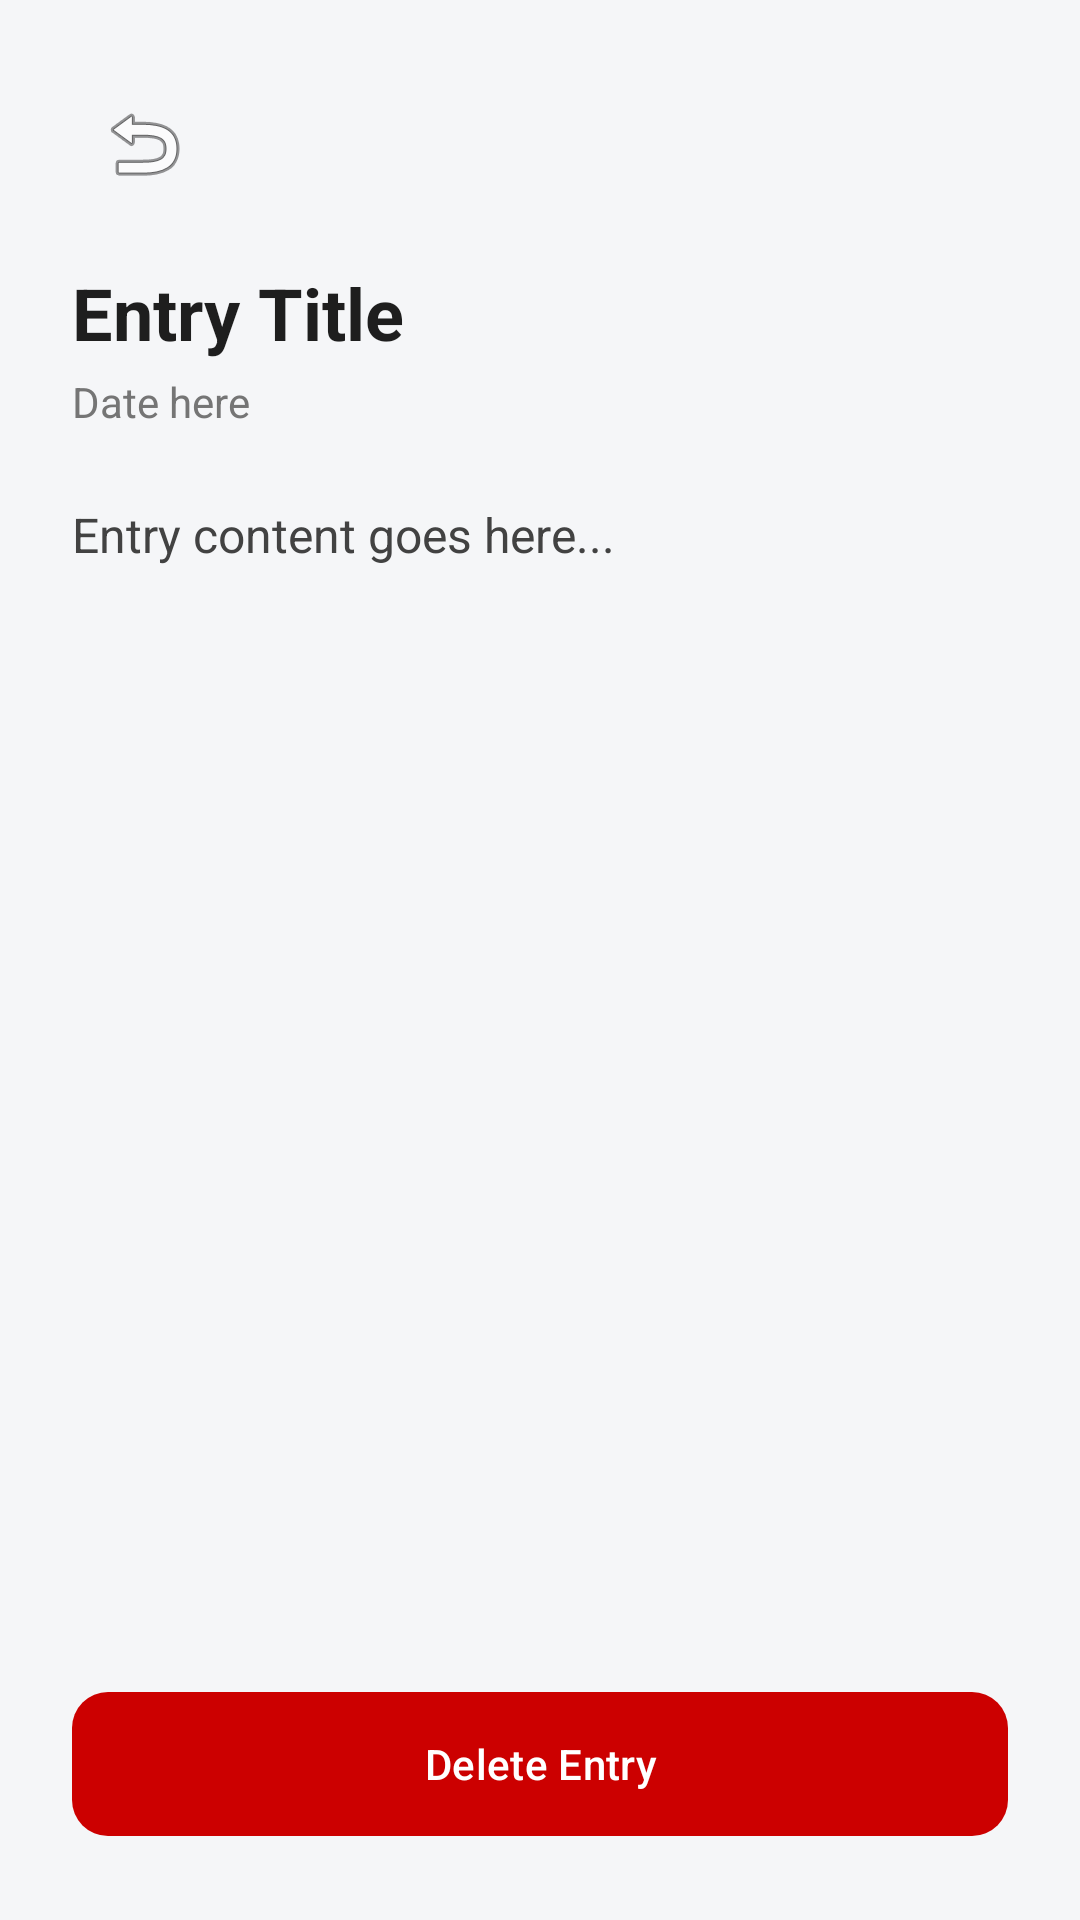

Icon bounding boxes for this 1080x1920 phone screenshot, format (x1, y1, x2, y2):
Back: (111, 113, 180, 176)
